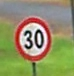limite 30: (14, 14, 53, 62)
